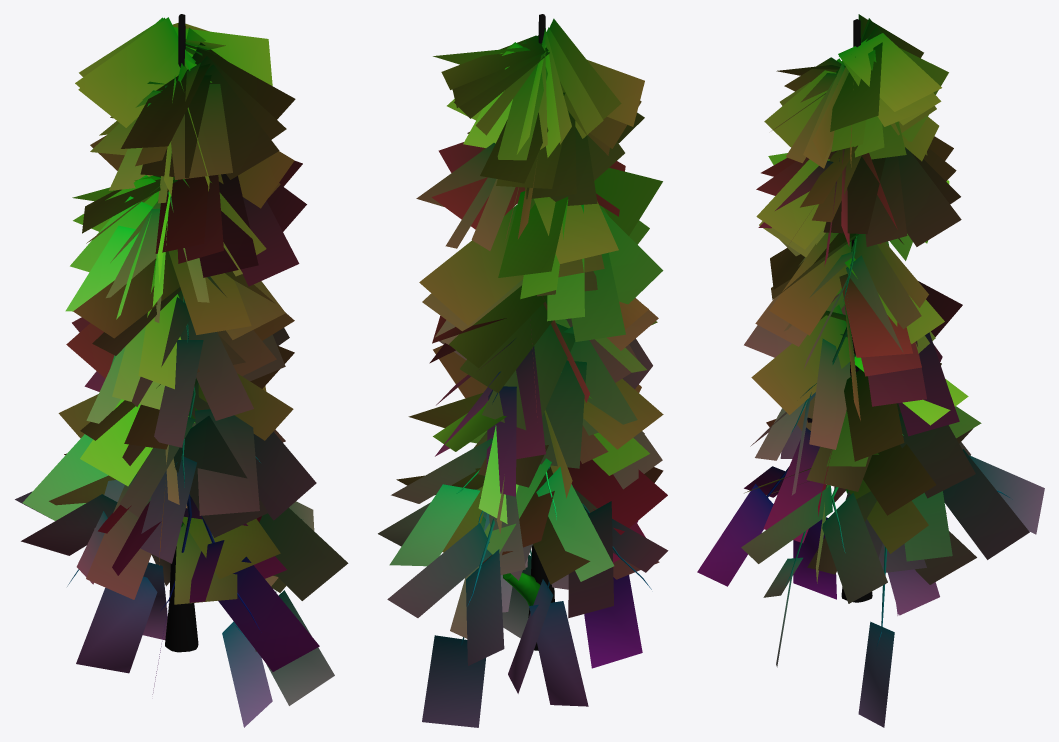
The model's file is M_Pine_3_8.fbx.
3 renders of one model, left to right at view 1: azimuth 30°, elevation 25°; view 2: azimuth 150°, elevation 25°; view 3: azimuth 270°, elevation 25°, orthographic. The views are drawn at different scales.
Parts seen in each view (by area): view 1: Tree_8; view 2: Tree_8; view 3: Tree_8.
Part boxes in pixels (x1,y1,x2,y2): Tree_8: (15,14,348,727); Tree_8: (378,14,668,727); Tree_8: (697,14,1044,727).
Size of the model in its own units: 1266 by 3334 by 1576.
